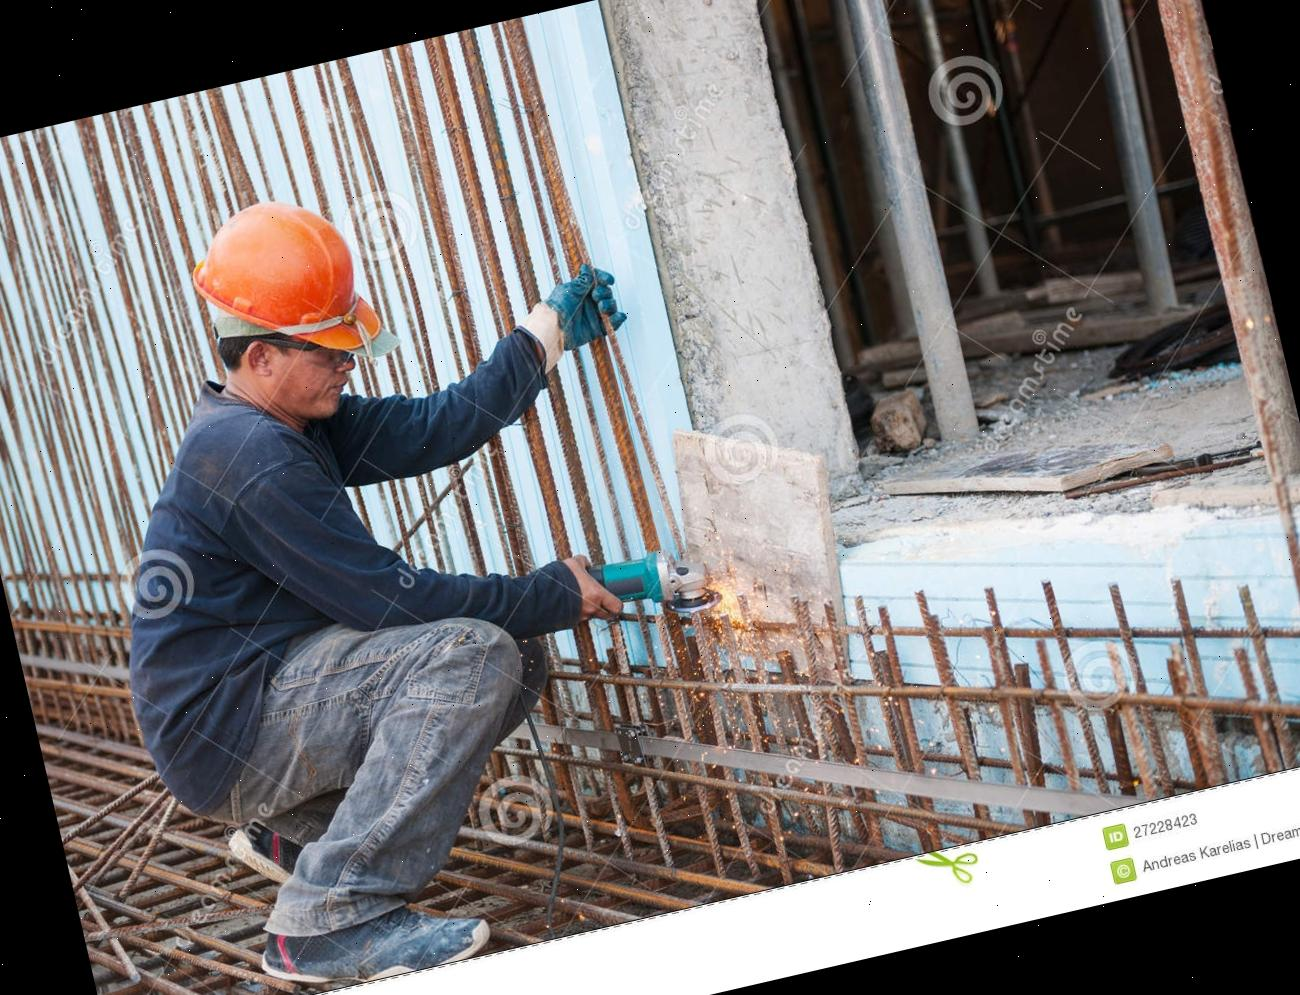helmet: (162, 176, 388, 386)
no_wear: (94, 406, 402, 804)
